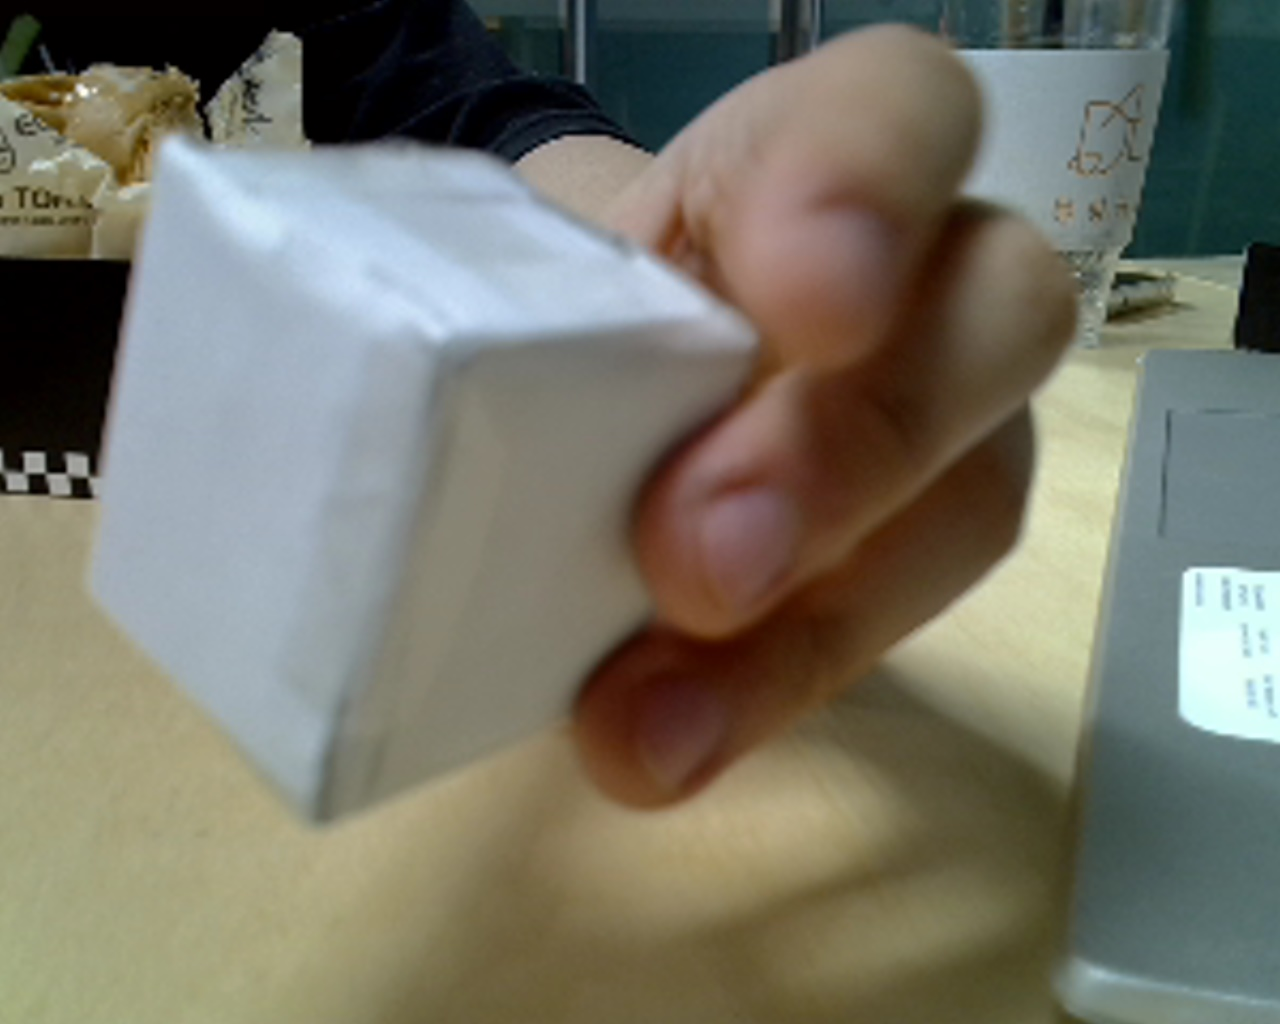whitebox: (73, 91, 795, 842)
